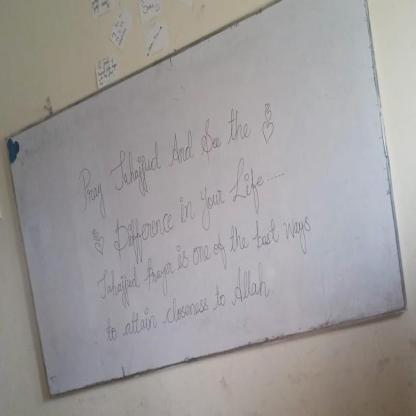Handwritten text: (83, 191, 322, 320), (61, 96, 271, 220), (90, 149, 276, 260), (91, 255, 286, 354)
